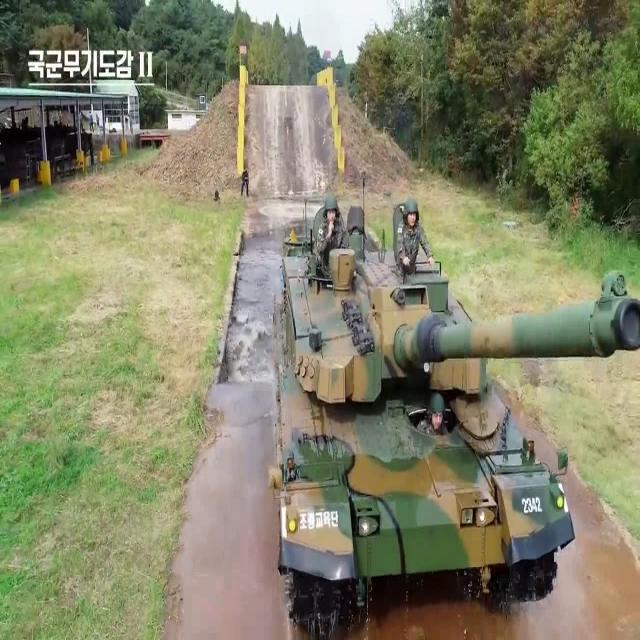korea tank: (266, 168, 640, 640)
